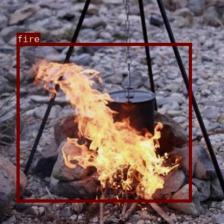fire: (16, 42, 191, 202)
